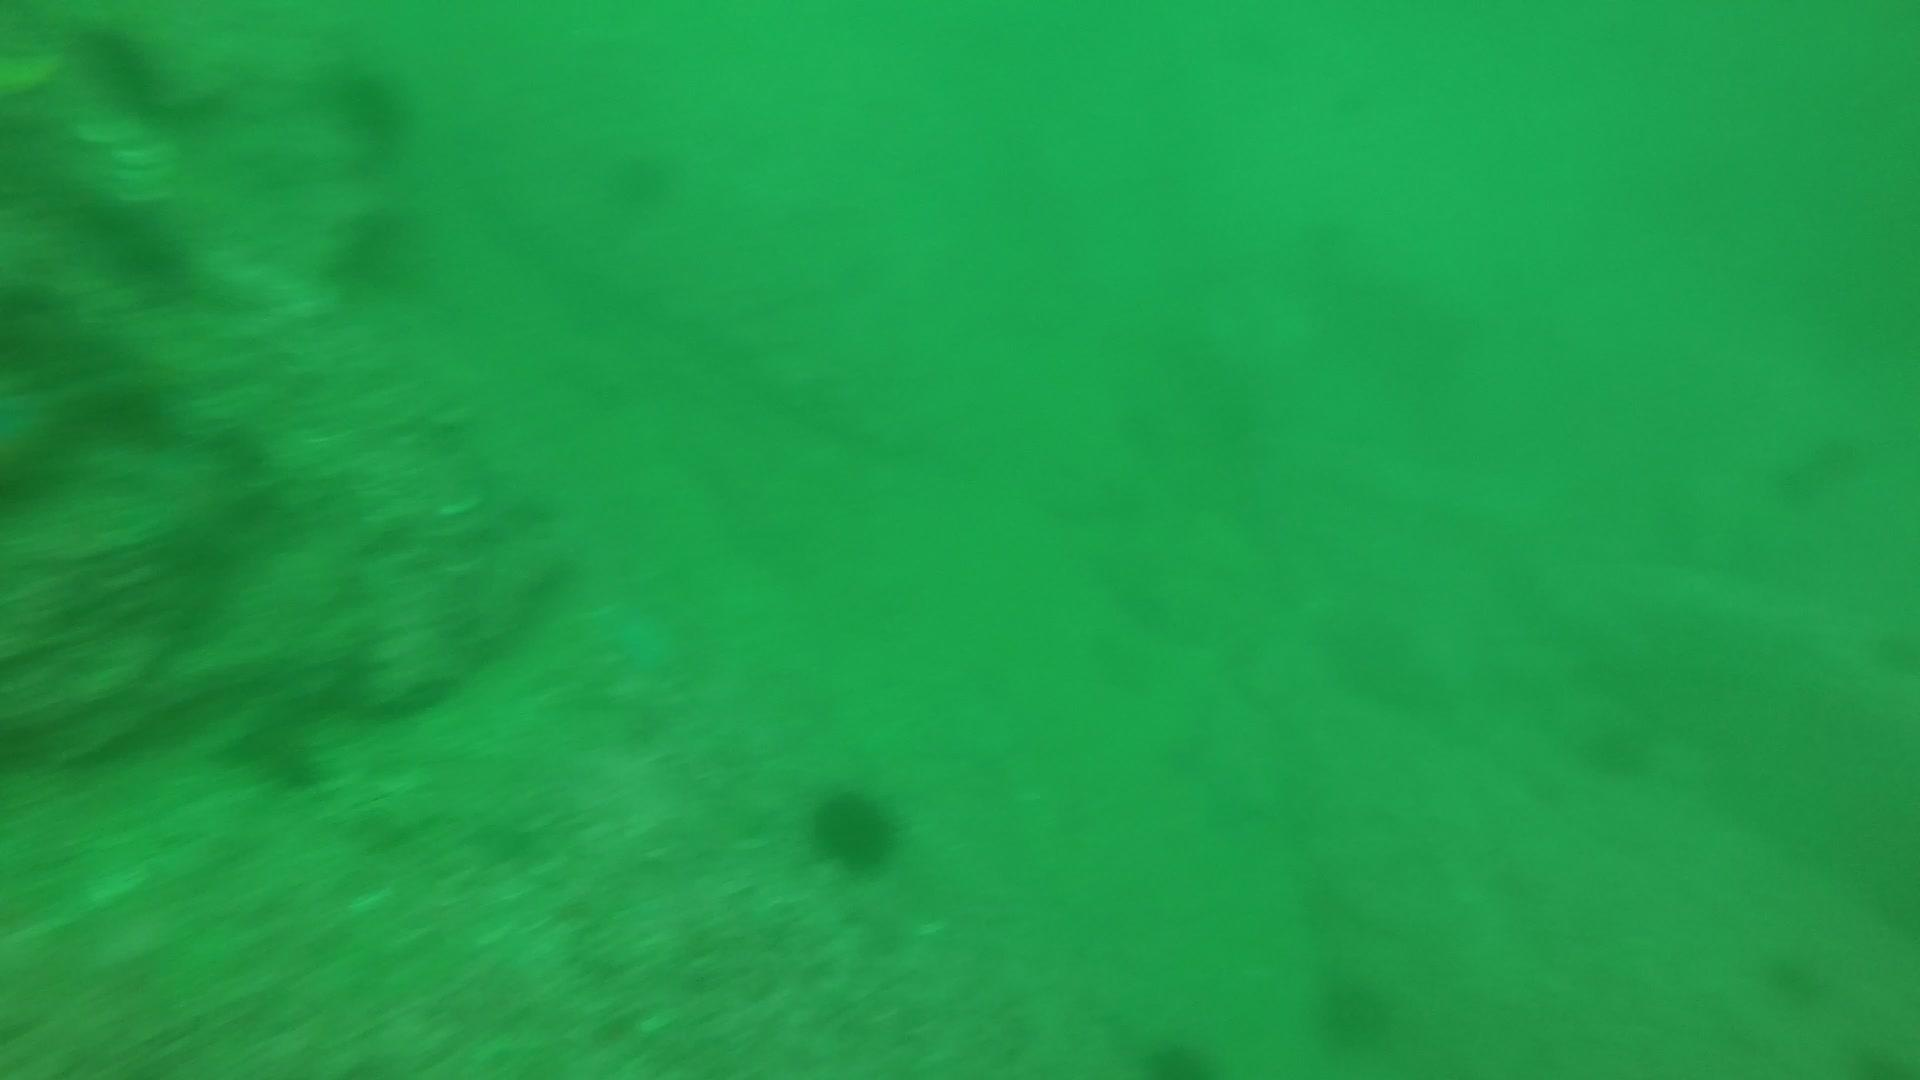echinus: (319, 198, 430, 301), (802, 779, 909, 877), (319, 54, 419, 150), (1307, 963, 1402, 1056), (599, 137, 684, 215)
